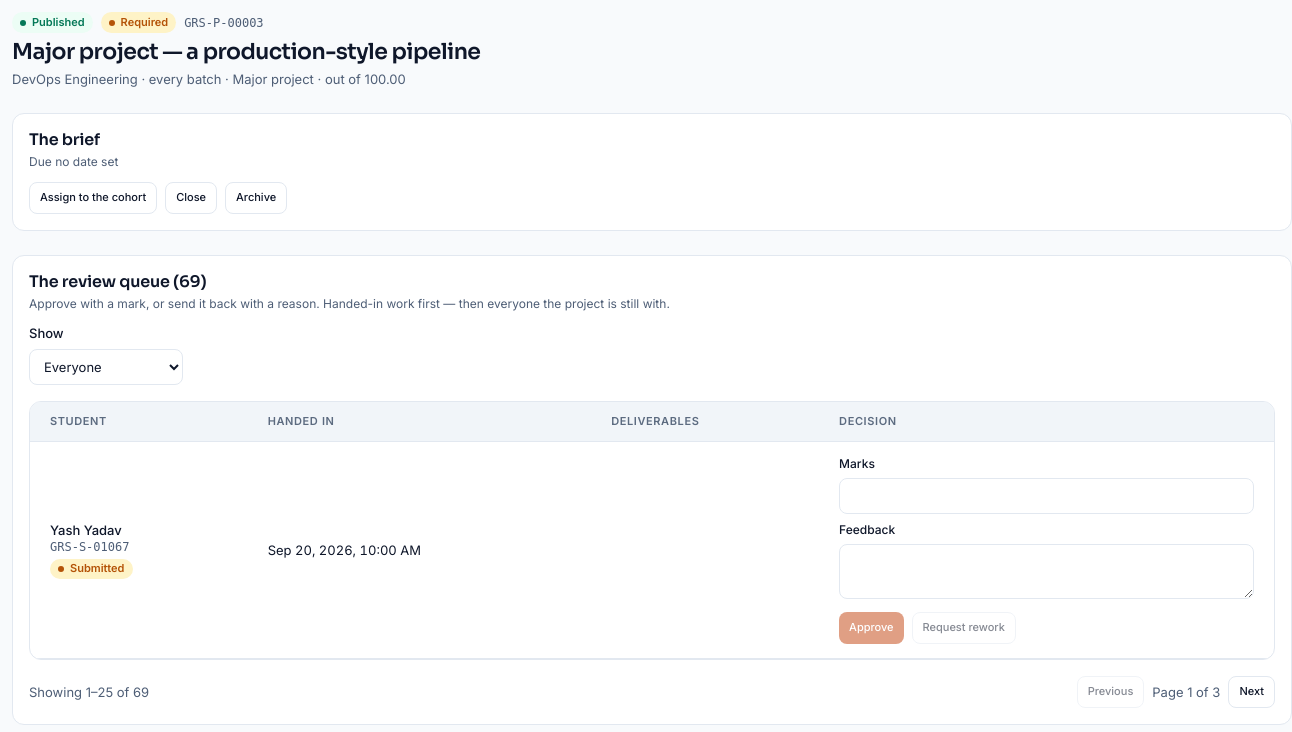
the project review queue › sends the status filter to the server and returns to page 1
The width and height of the screenshot is (1292, 732).
Check: the text "Yash Yadav" is shown, box [50,522,122,538]
Click the button "Next" at (1252, 692), box [1228,676,1275,708]
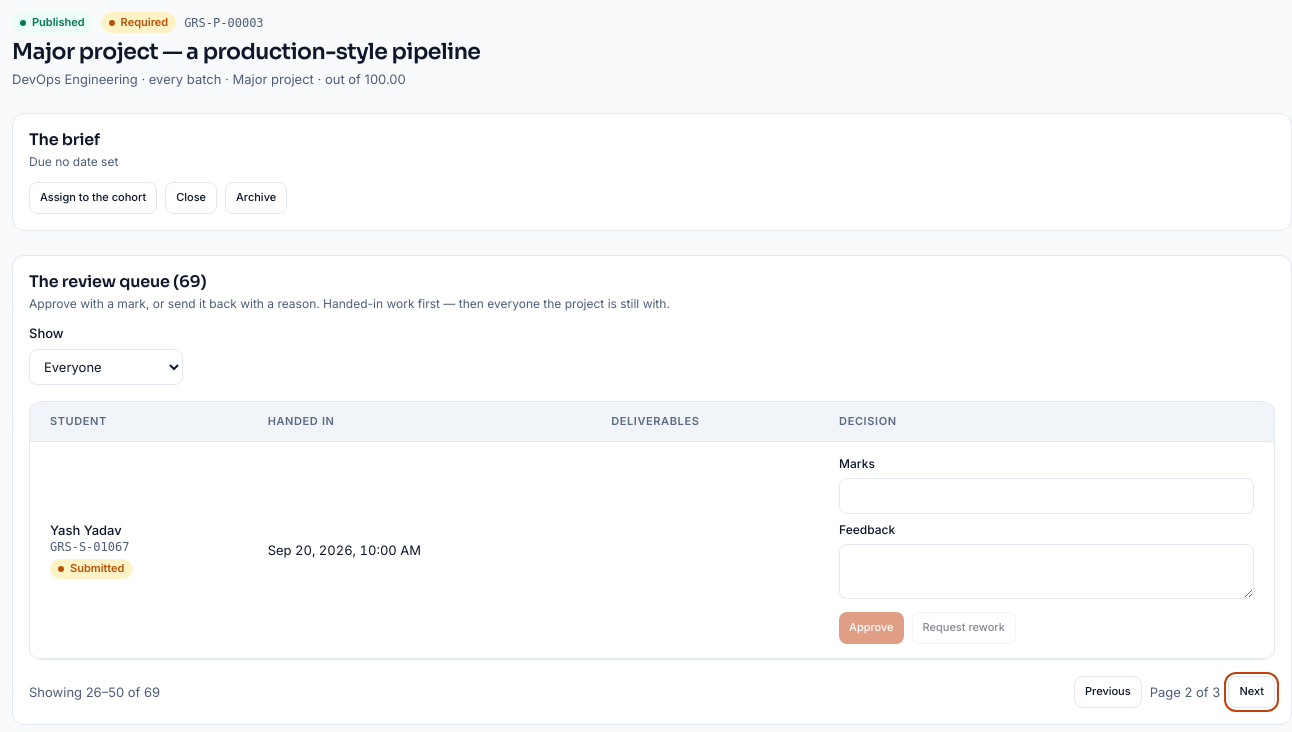
Select "Submitted" in the dropdown labelled "Show" at (106, 366), box [29,348,183,384]
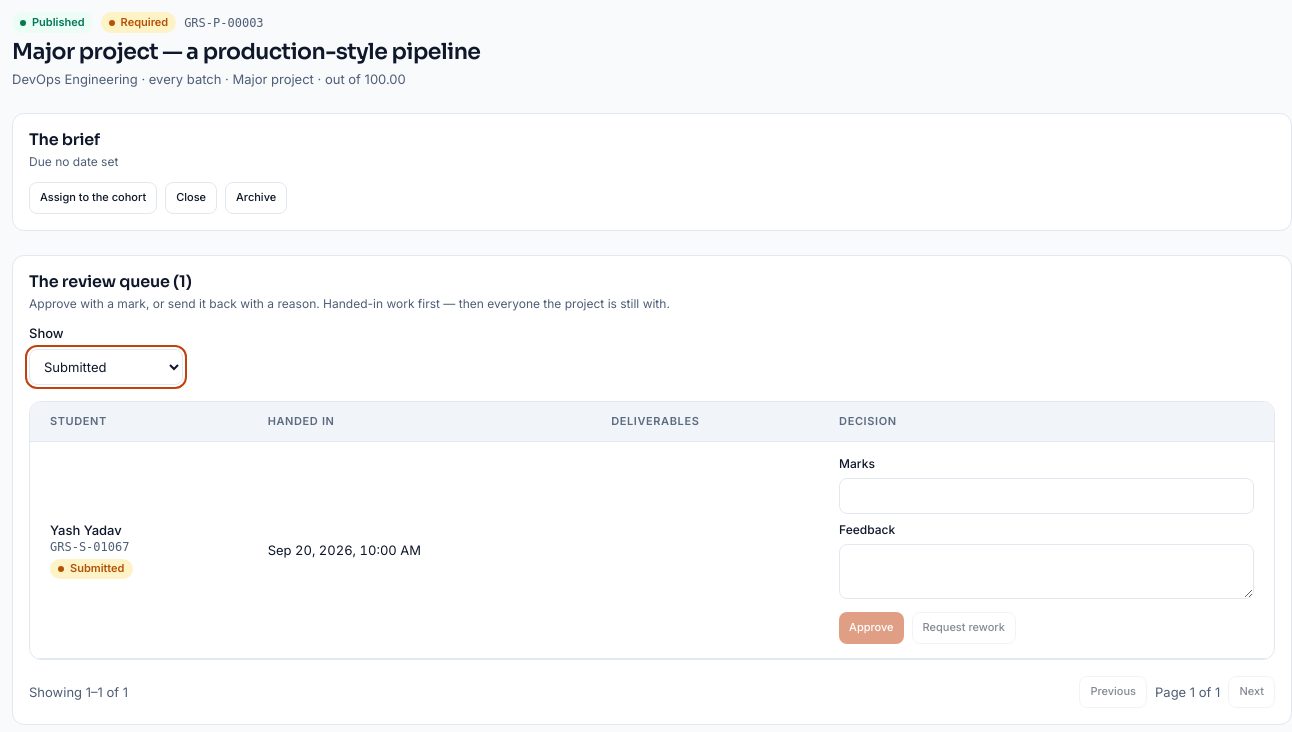
Check: the heading "The review queue (1)" is shown, box [29,271,192,292]
